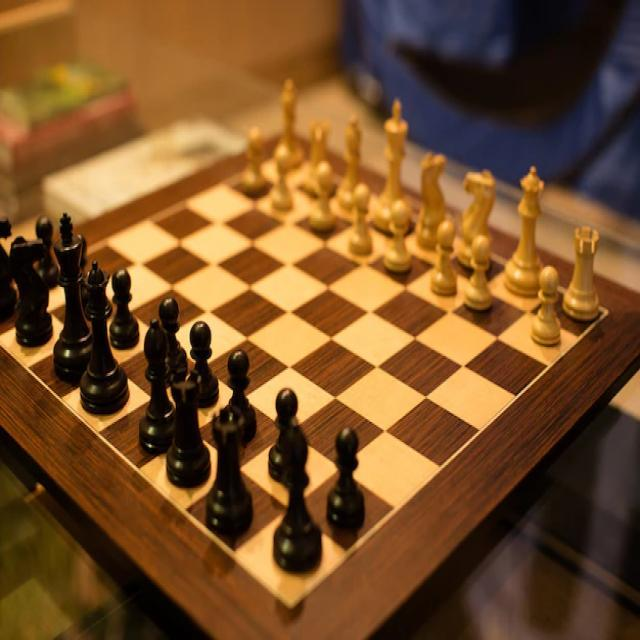chess-table-corners: (266, 584, 318, 636), (600, 298, 620, 326)
